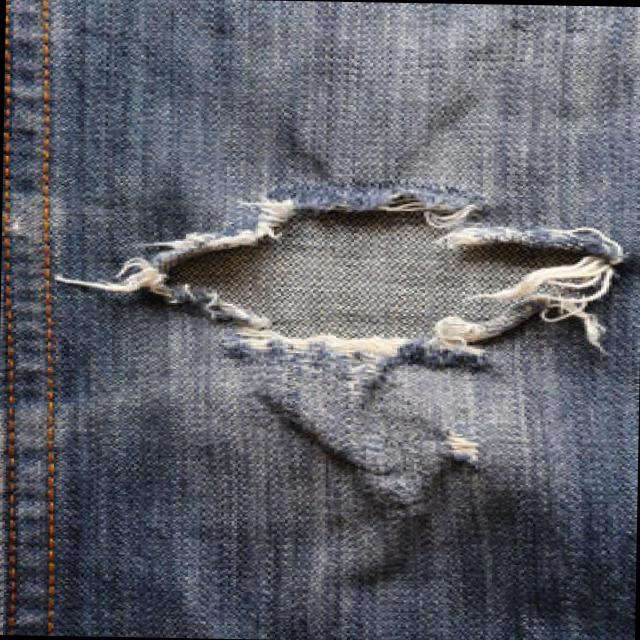hole: (142, 168, 638, 378)
seam: (0, 0, 65, 635)
